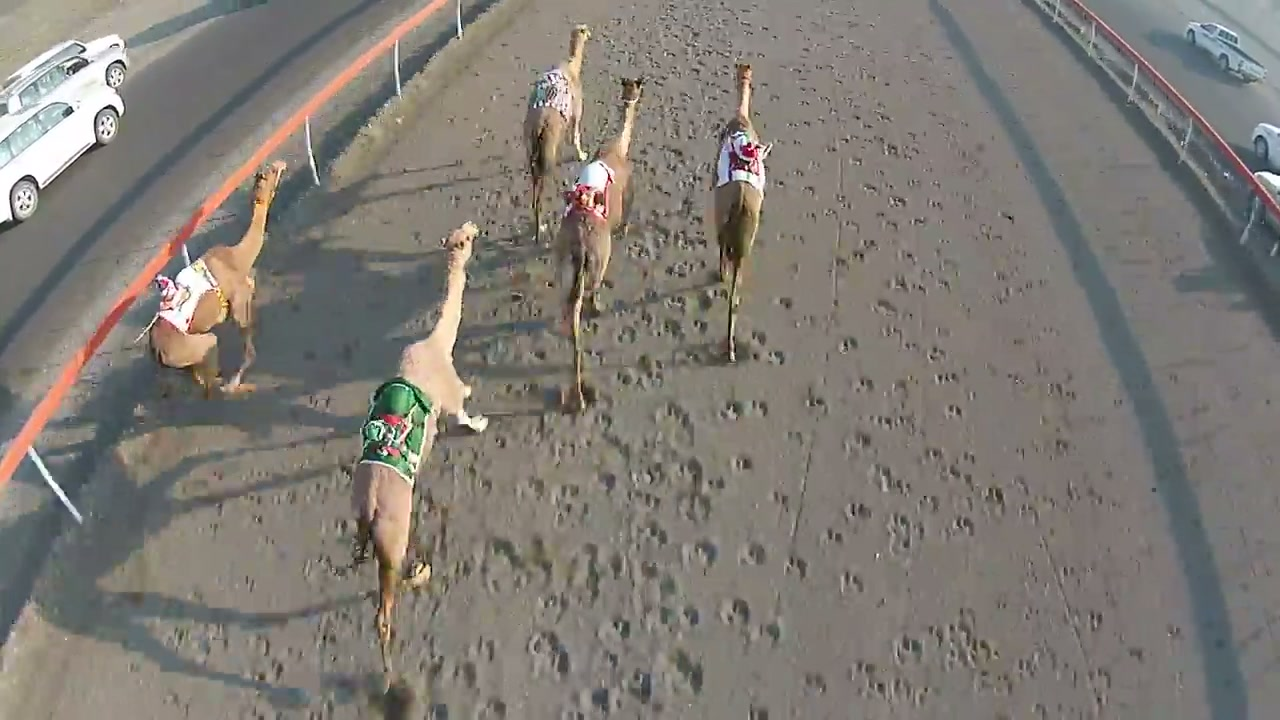animal_foot_print: (437, 171, 809, 715), (777, 31, 1053, 704), (193, 432, 371, 709)
